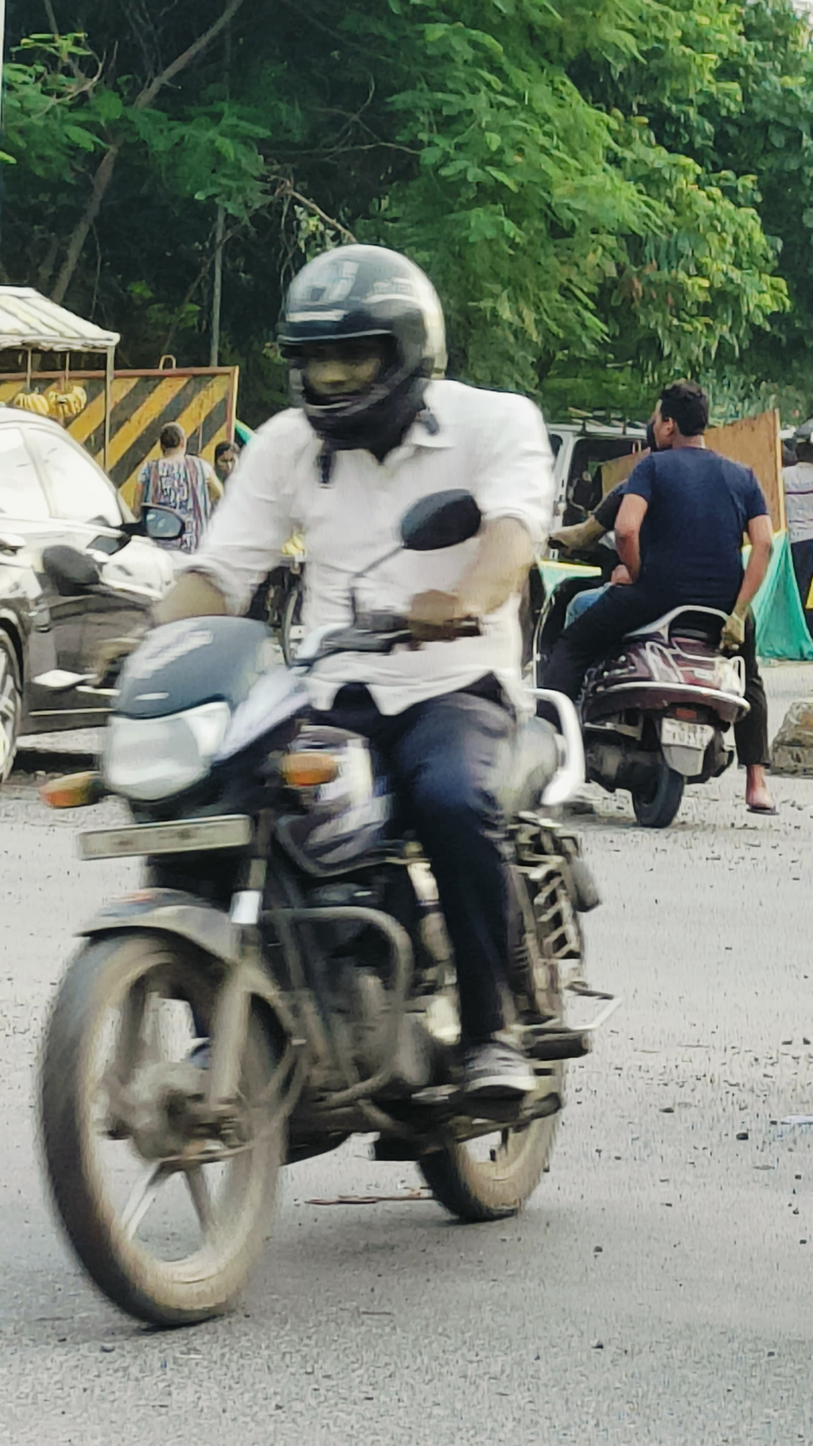BikeWithRider: (19, 204, 631, 1346)
Helmet: (248, 213, 477, 467)
